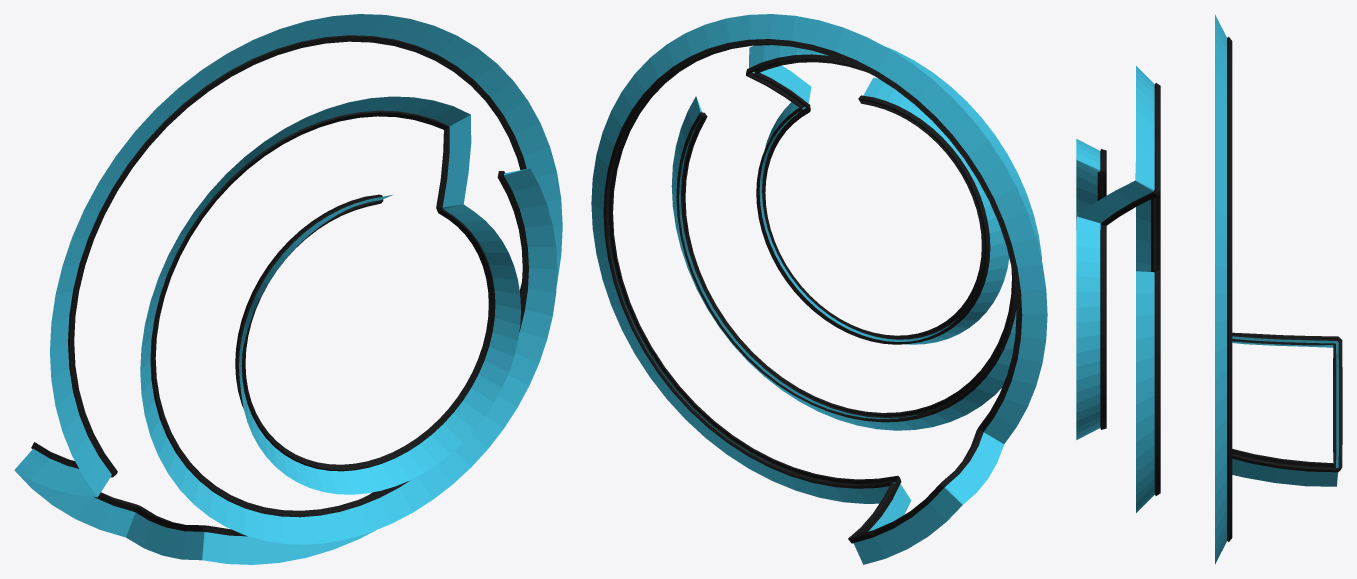
The model's file is WallTest04.FBX.
The picture shows the model from 3 angles, left to right: view 1: azimuth 30°, elevation 25°; view 2: azimuth 150°, elevation 25°; view 3: azimuth 270°, elevation 25°; orthographic projection. The views are drawn at different scales.
Visible parts, largest first — view 1: Sc01_04; view 2: Sc01_04; view 3: Sc01_04.
Part boxes in pixels (x1,y1,x2,y2): Sc01_04: (14,14,562,564); Sc01_04: (591,14,1047,564); Sc01_04: (1076,14,1342,564).
Size of the model in its own units: 205 by 205 by 98.78.
